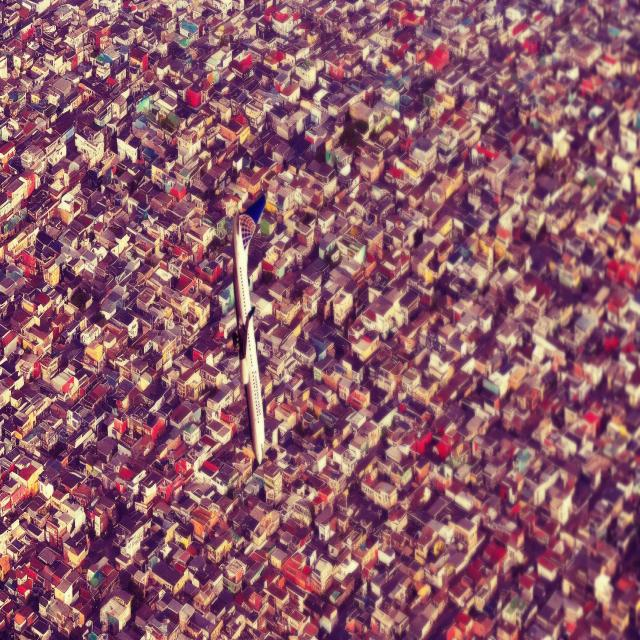airplane: (230, 196, 267, 465)
